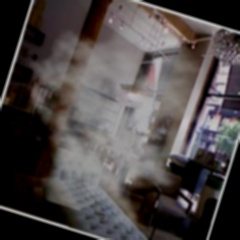smoke: (6, 38, 181, 205)
